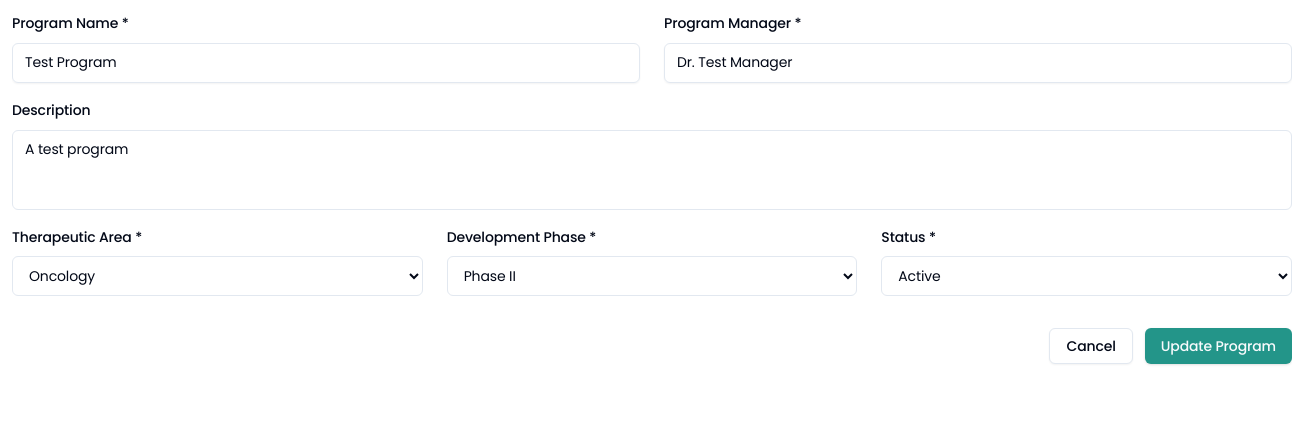
Test case: EditProgramForm › Form Submission › should handle submission errors gracefully
Click the button "Update Program" at {"x": 1218, "y": 346}, box [1145, 328, 1292, 364]
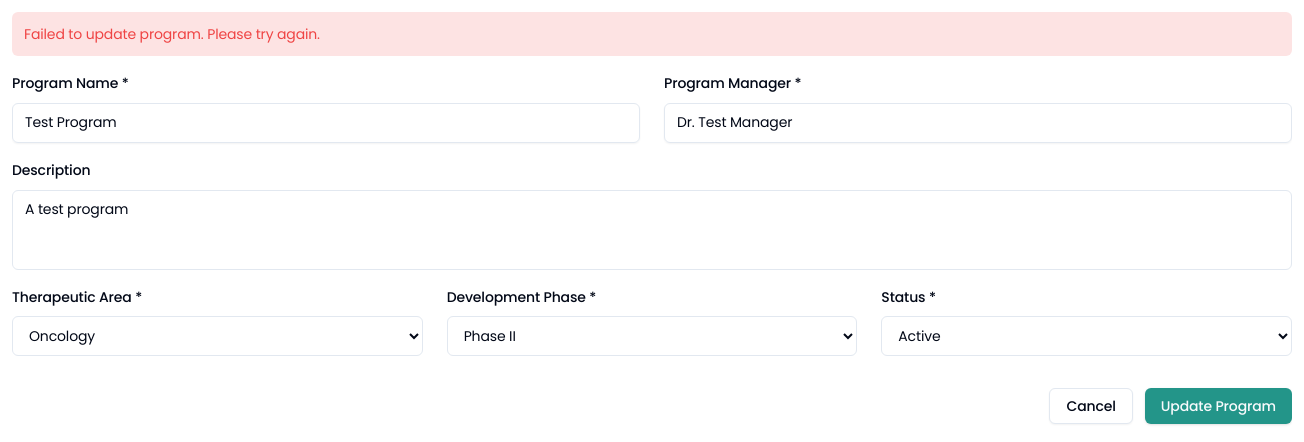
expect the text "Failed to update program. Please try again." is shown: met, box [12, 12, 1292, 56]
